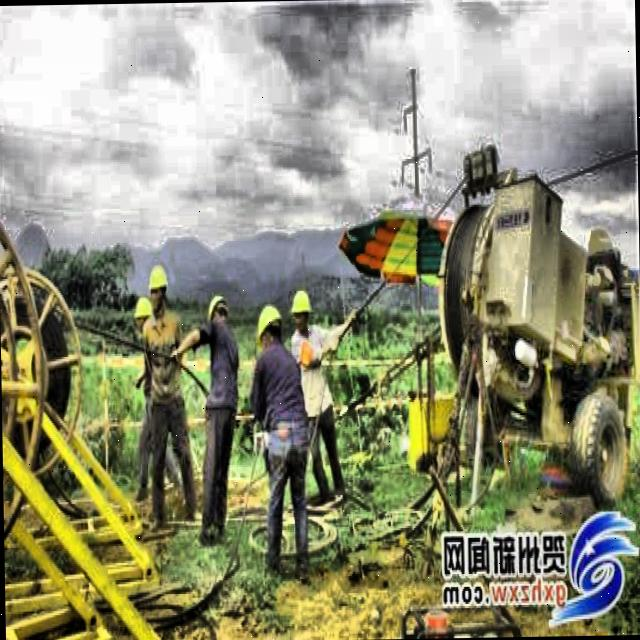helmet: (252, 299, 286, 352), (146, 256, 172, 312), (290, 288, 314, 338), (203, 294, 230, 335), (131, 293, 155, 336)
